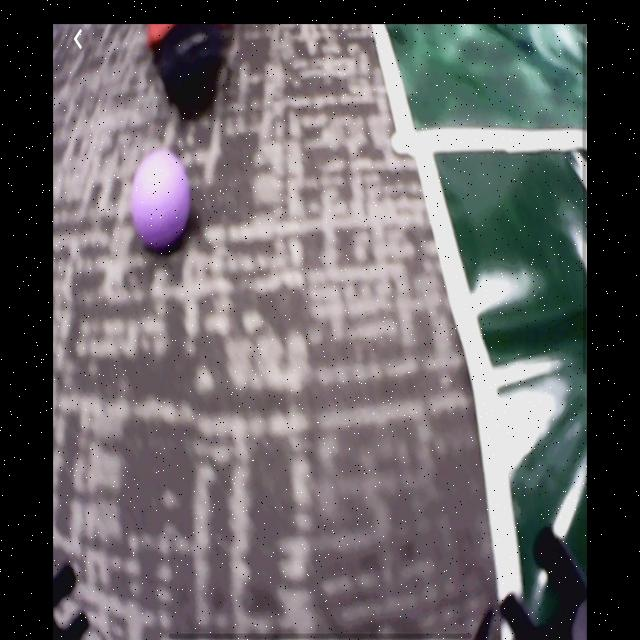ball: (130, 151, 190, 248)
